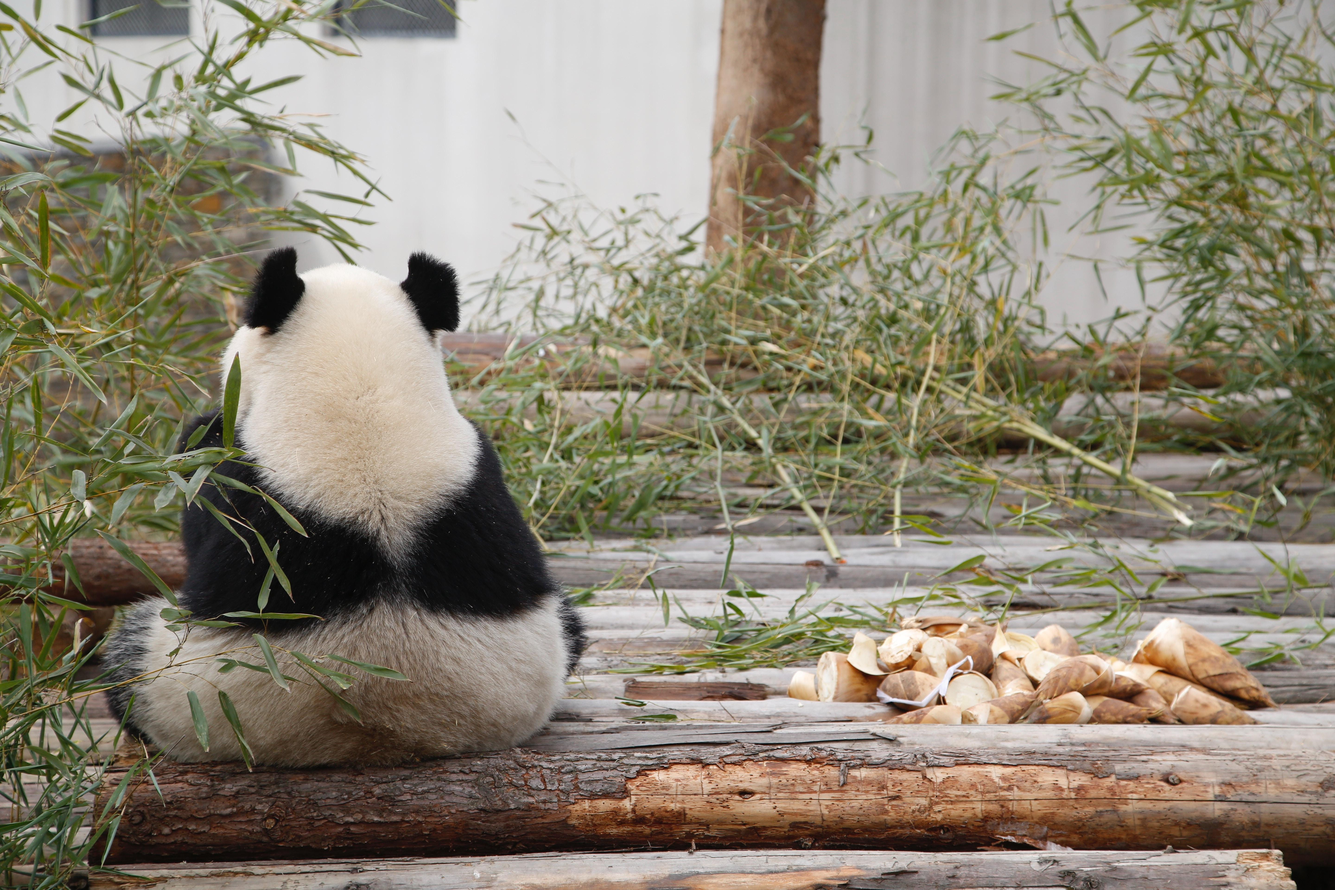panda: (93, 249, 585, 756)
